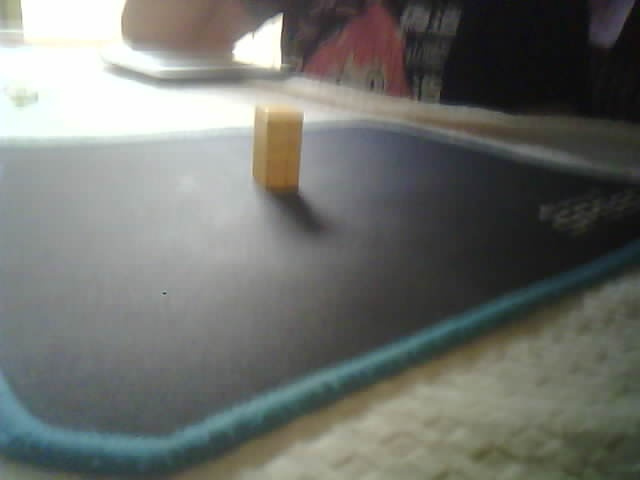lego: (251, 103, 306, 190)
